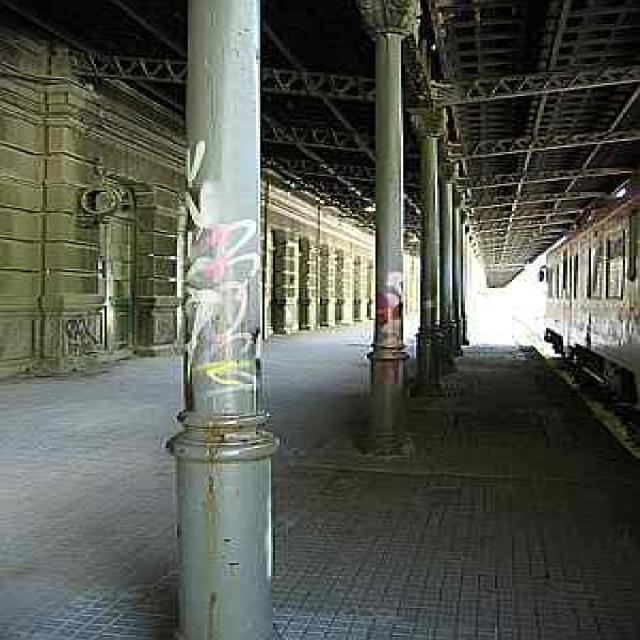building: (0, 27, 484, 380)
column occluded: (164, 0, 279, 634), (354, 0, 418, 453), (410, 107, 444, 392)
gate number: (486, 286, 503, 301)
platform: (0, 301, 636, 637)
train crop: (508, 170, 636, 434)
